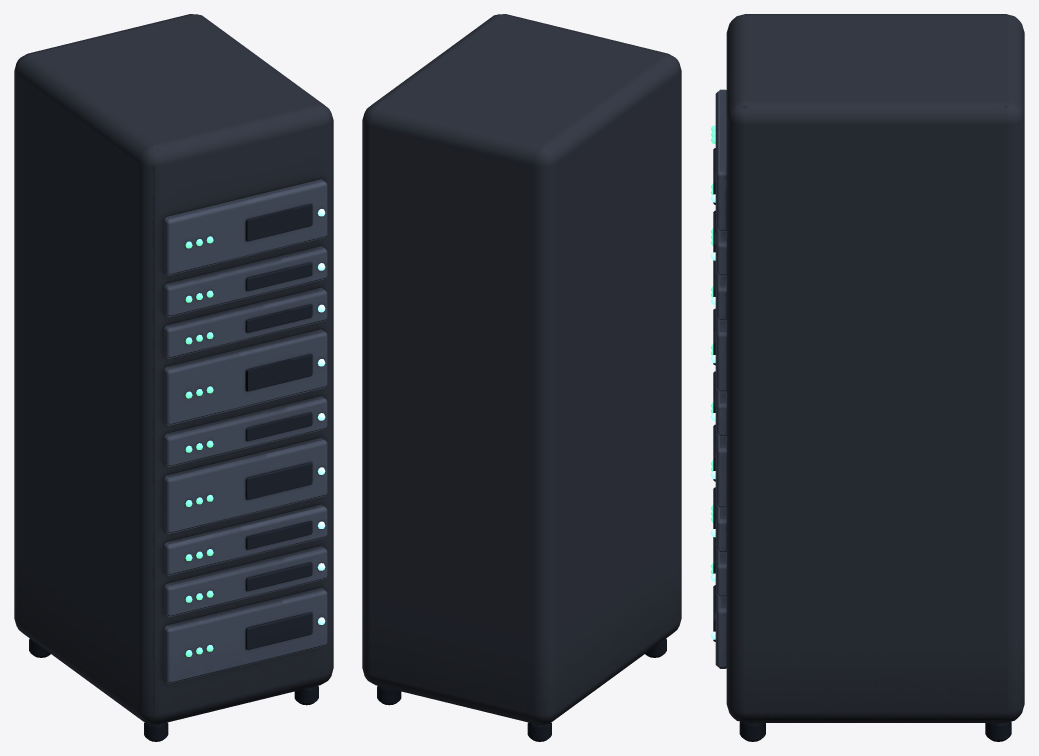
Rendered from server_rack.glb.
3 renders of one model, left to right at view 1: azimuth 30°, elevation 25°; view 2: azimuth 150°, elevation 25°; view 3: azimuth 270°, elevation 25°, orthographic. The views are drawn at different scales.
Parts seen in each view (by area): view 1: server_rack; view 2: server_rack; view 3: server_rack.
Part boxes in pixels (bbox=[...]): server_rack: bbox=[14, 14, 333, 741]; server_rack: bbox=[362, 14, 681, 741]; server_rack: bbox=[710, 14, 1024, 741].
Size of the model in its own units: 0.64 by 1.9 by 0.844.
5 materials, 3 textured.
